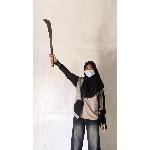Golok: (36, 14, 60, 72)
